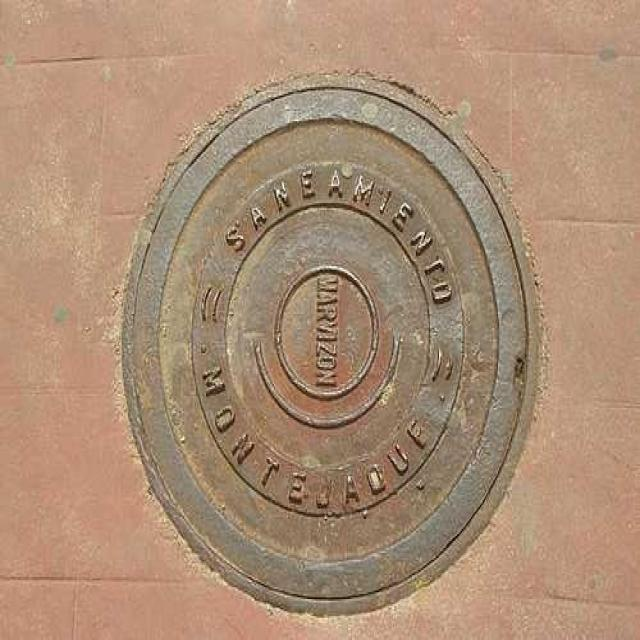manhole: (122, 77, 539, 613)
